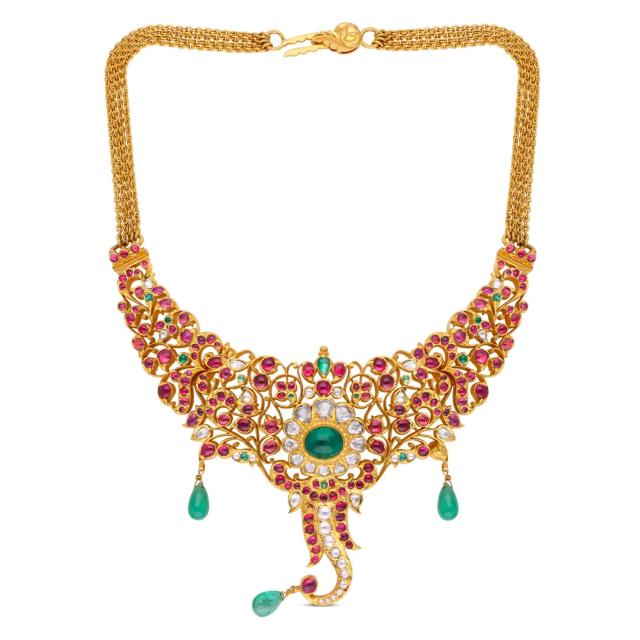missing gem: (430, 442, 446, 459), (224, 348, 234, 358), (303, 502, 314, 511)
